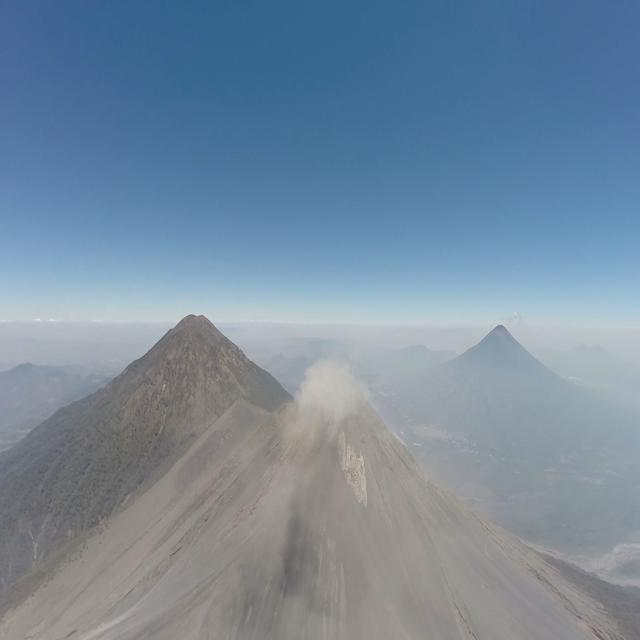Plume: (295, 355, 369, 439)
Summit: (280, 375, 442, 508)
